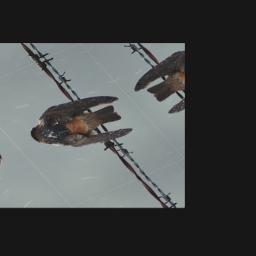Swallow: (17, 83, 146, 166)
